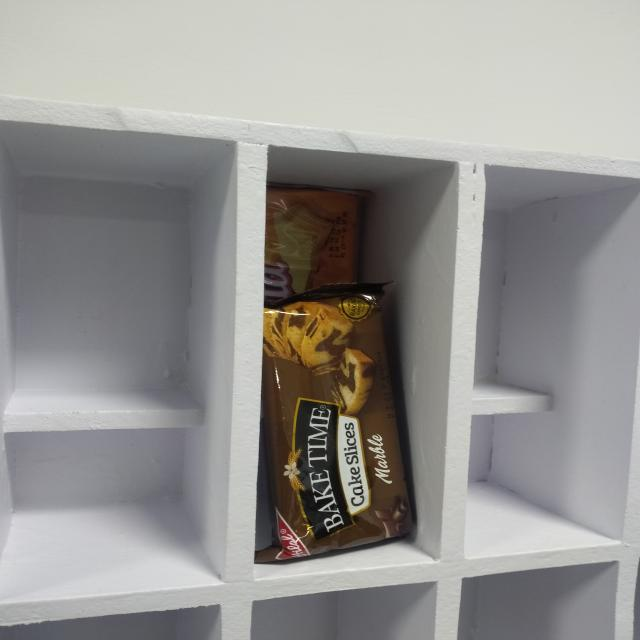Plastic: (261, 296, 415, 560), (265, 181, 369, 292)
